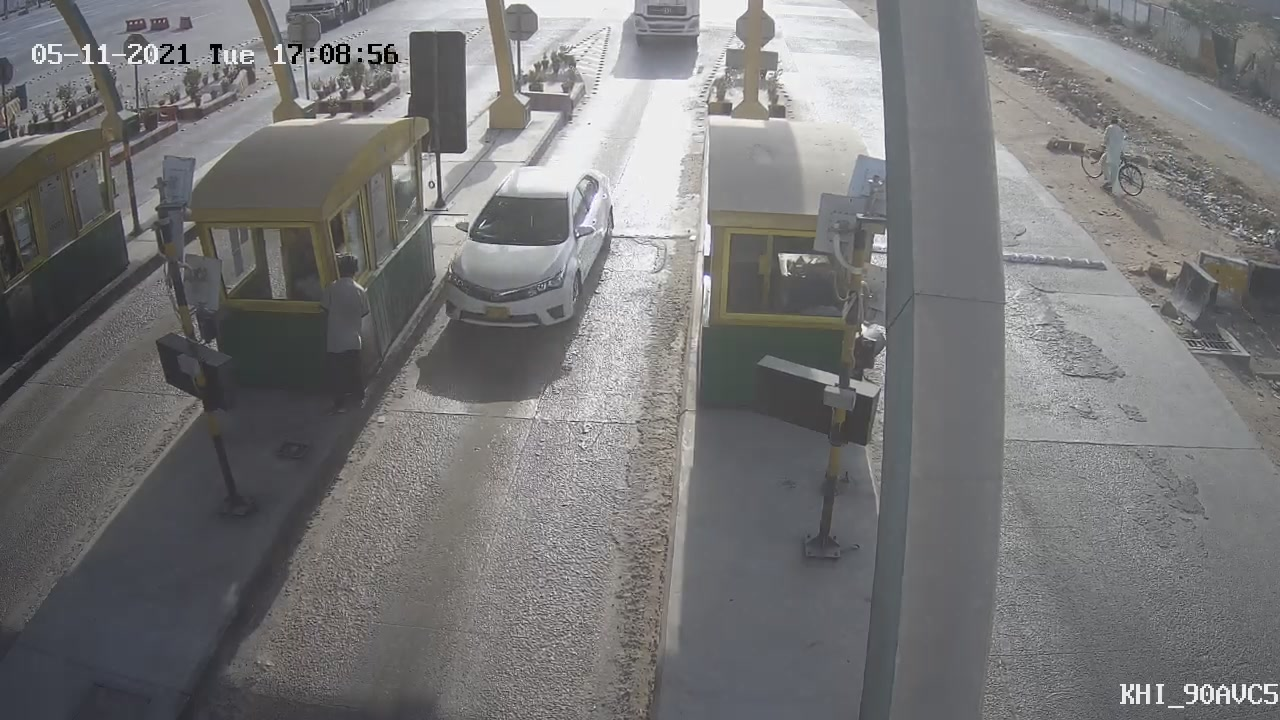F1: (418, 144, 626, 351)
